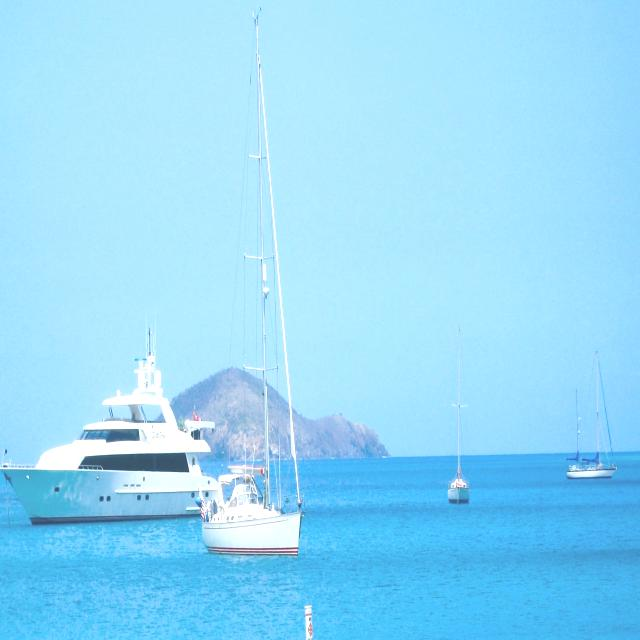ship: (199, 16, 303, 556), (0, 364, 215, 510), (564, 346, 618, 488), (449, 332, 473, 512)
